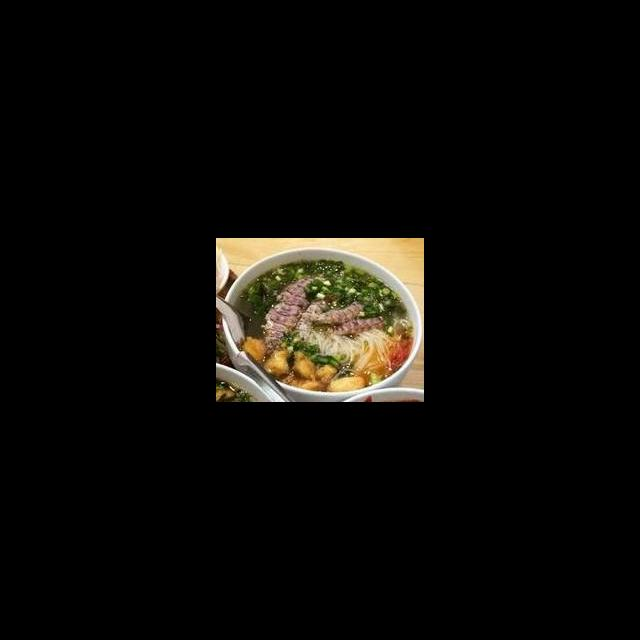bun: (292, 323, 401, 381)
bun hai san: (227, 256, 424, 402)
dau hu: (278, 348, 368, 394), (240, 334, 295, 379)
tom tit: (260, 273, 324, 352), (301, 297, 370, 326), (324, 315, 391, 337)
